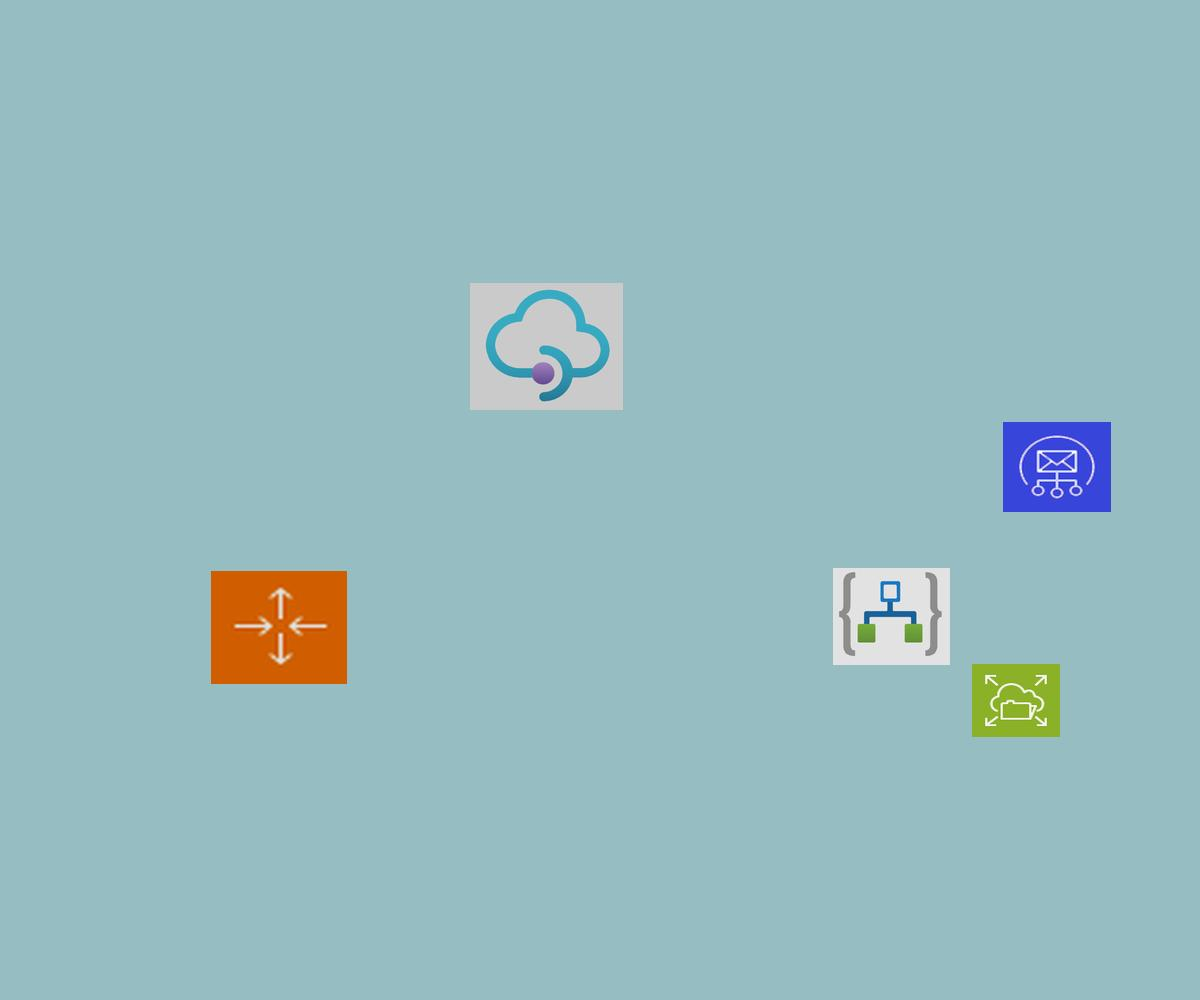AWS-EFS: (972, 664, 1060, 737)
AWS-Scaling-group: (211, 571, 347, 684)
AWS-Simple-Email-Service: (1003, 422, 1111, 512)
Azure_api_gateway: (470, 283, 623, 410)
Azure_integration-204-Logic-Apps: (833, 568, 950, 665)
